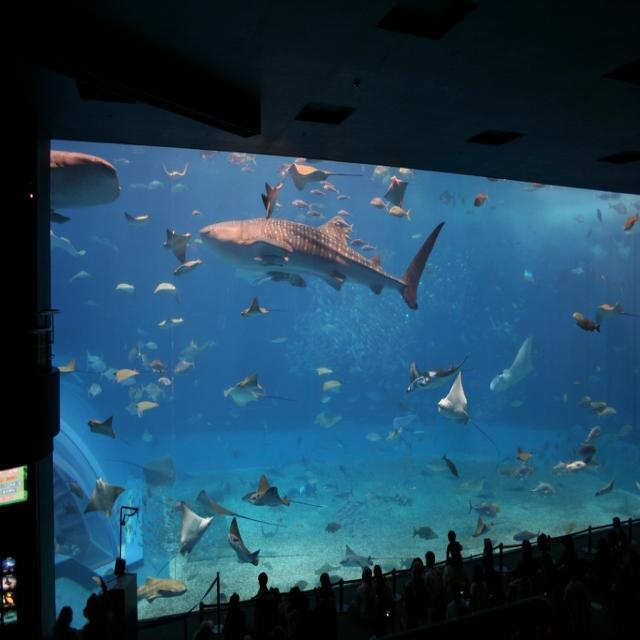Shark: (196, 218, 447, 312)
